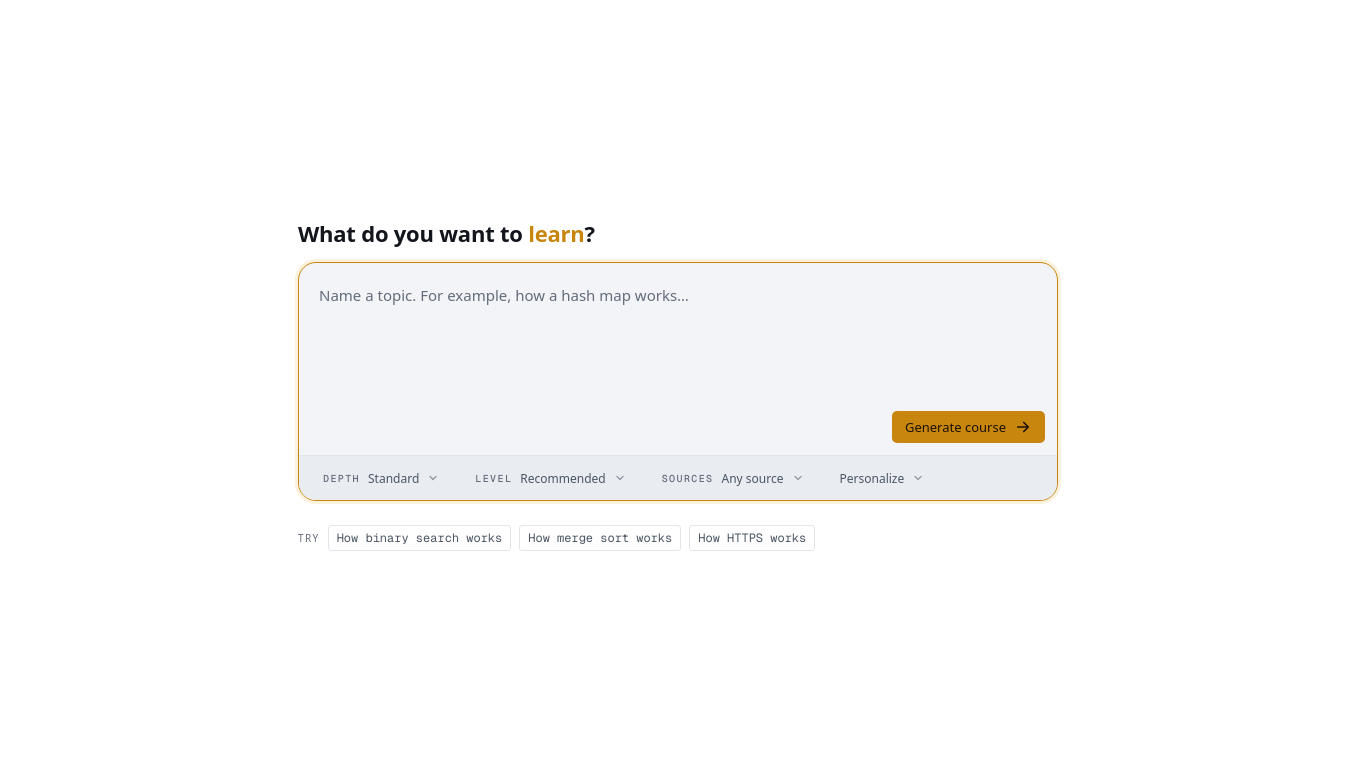
Test: IdleCourseSetup › says on the chip whether the build is tailored, without opening the panel
Expected: the button "Personalize" is shown, [828,464,936,492]
Type "english" into the text box labelled "topic" at (678, 337), box [299,263,1057,411]
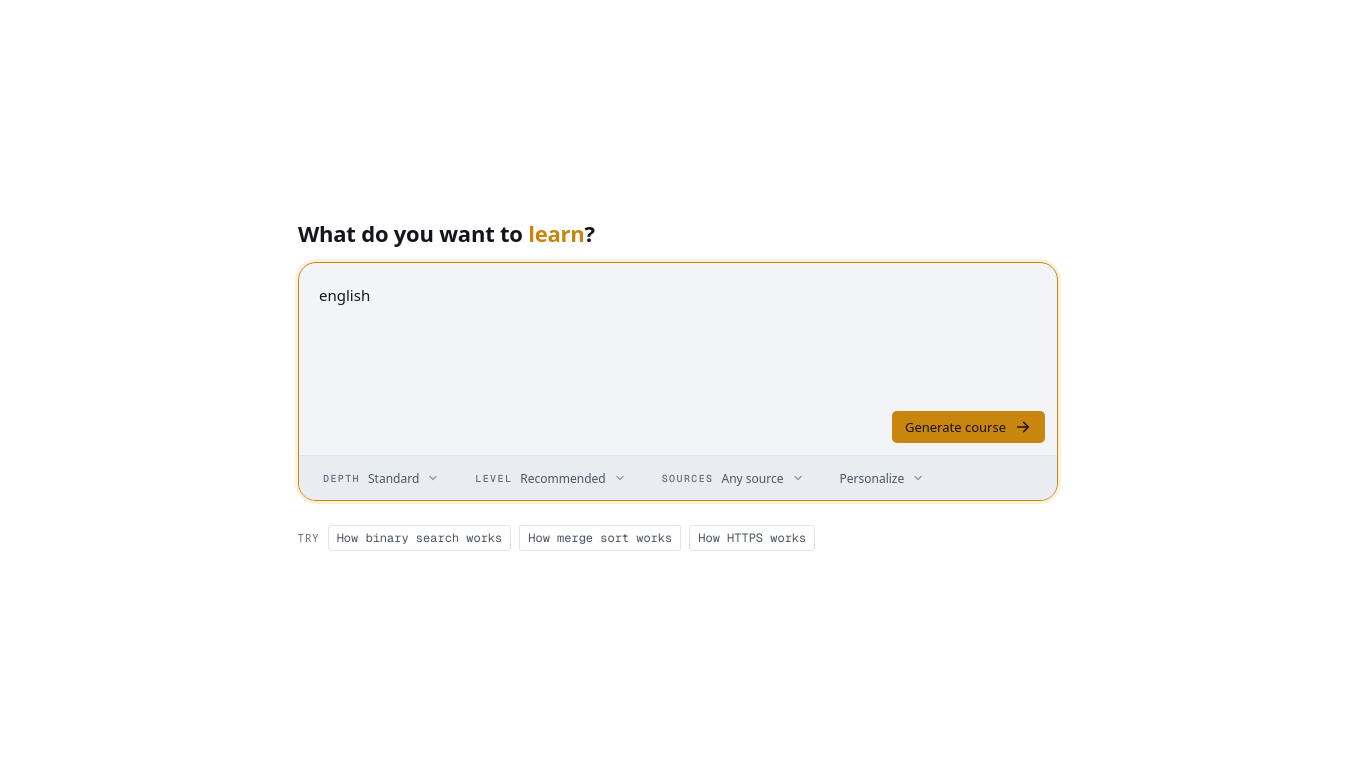
Click the button "Personalize" at (882, 478), box [828,464,936,492]
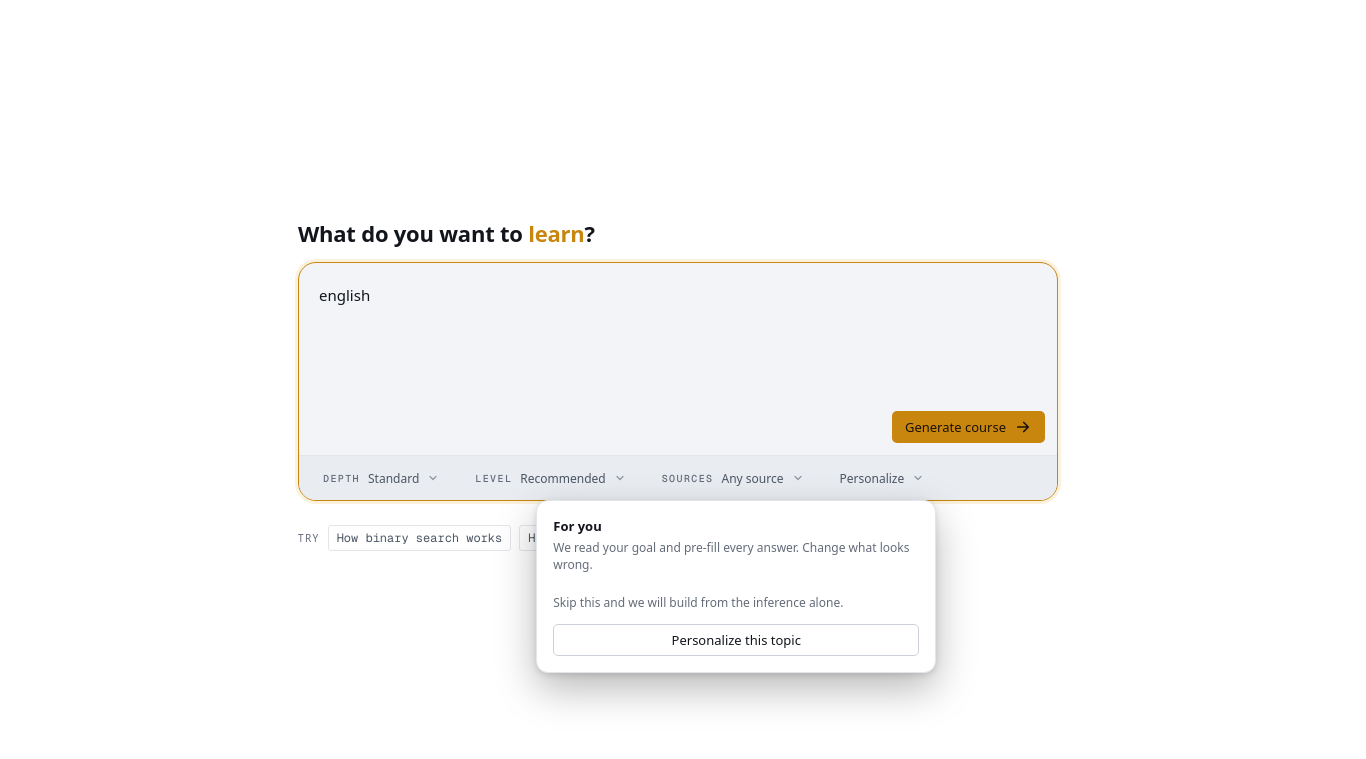
Click the button "Personalize this topic" at (736, 640), box [553,624,919,656]
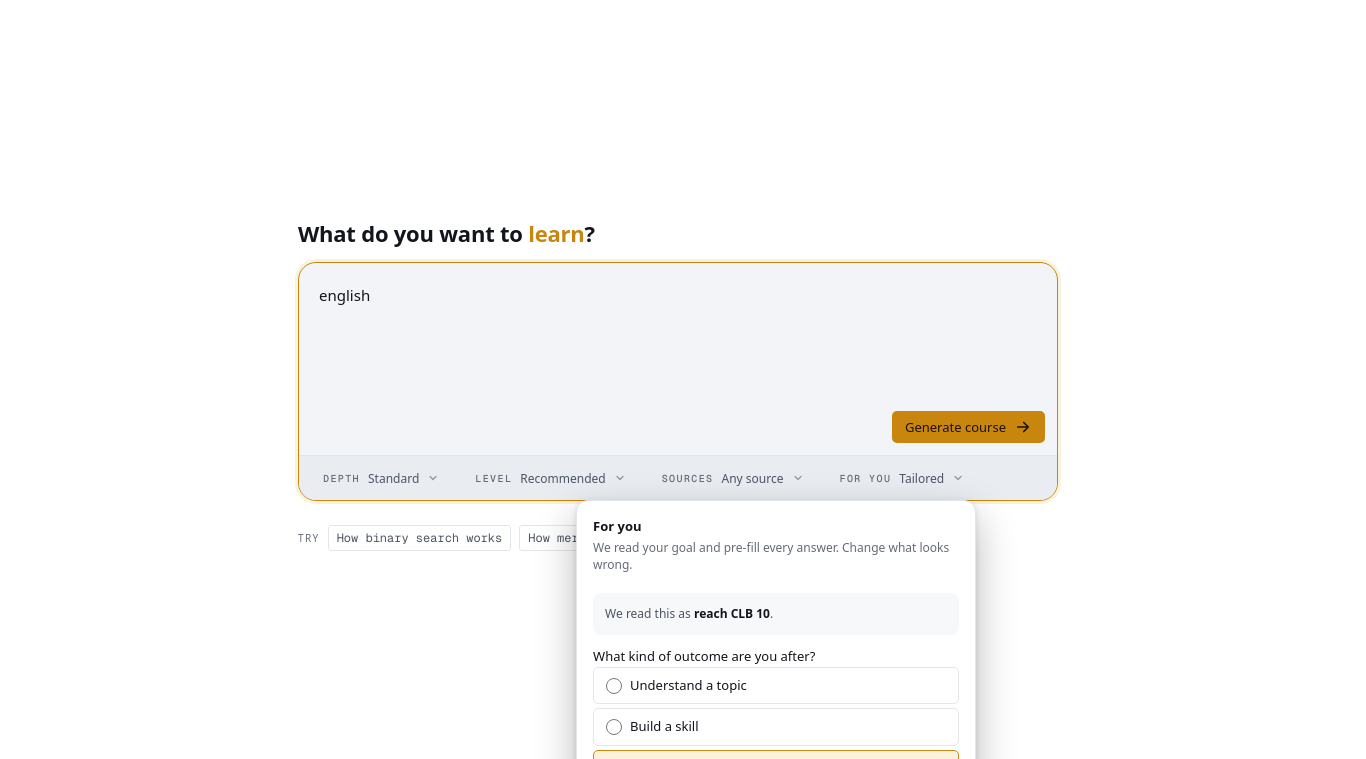
Result: the text "reach CLB 10" is shown at [694,605,770,622]
Result: the button "For you Tailored" is shown at [828,464,976,492]
Result: the button "Personalize" is gone
